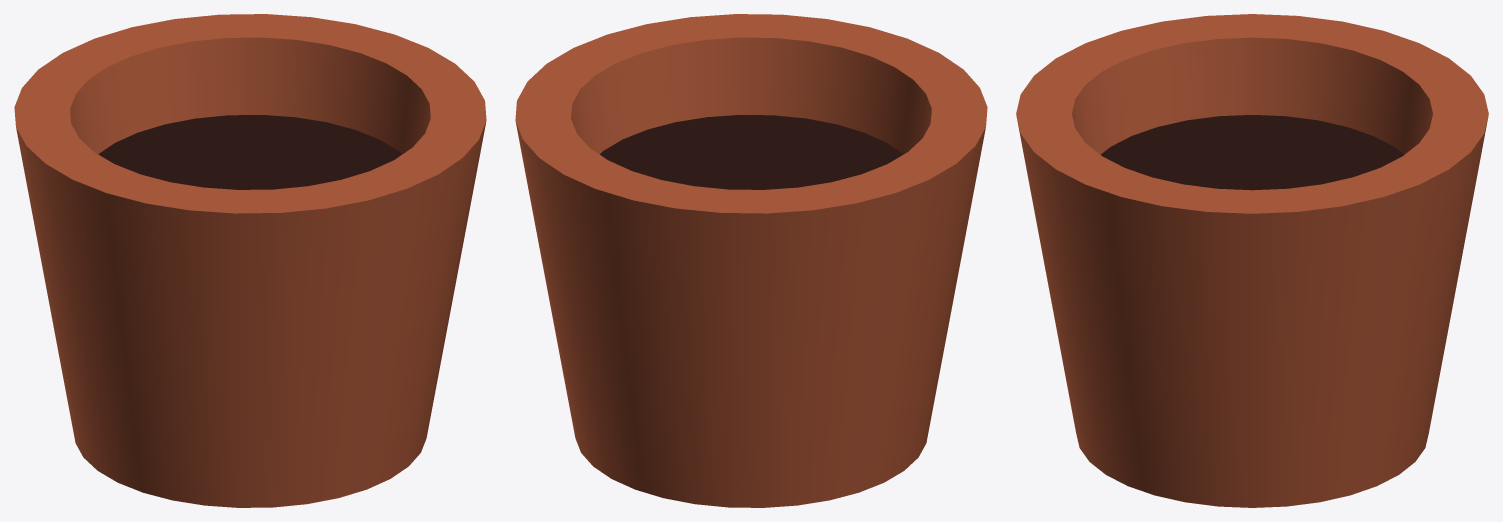
The model's file is plantenpot.fbx.
3 views of the same model, side by side, from view 1: azimuth 30°, elevation 25°; view 2: azimuth 150°, elevation 25°; view 3: azimuth 270°, elevation 25° (orthographic).
Parts seen in each view (by area): view 1: Cylinder; view 2: Cylinder; view 3: Cylinder.
Boxes of the visible parts, x1,y1,x2,y2 form: Cylinder: (14,14,486,507); Cylinder: (515,14,987,507); Cylinder: (1016,14,1488,507).
Bounding box in the file's own units: 268 × 200 × 268.
